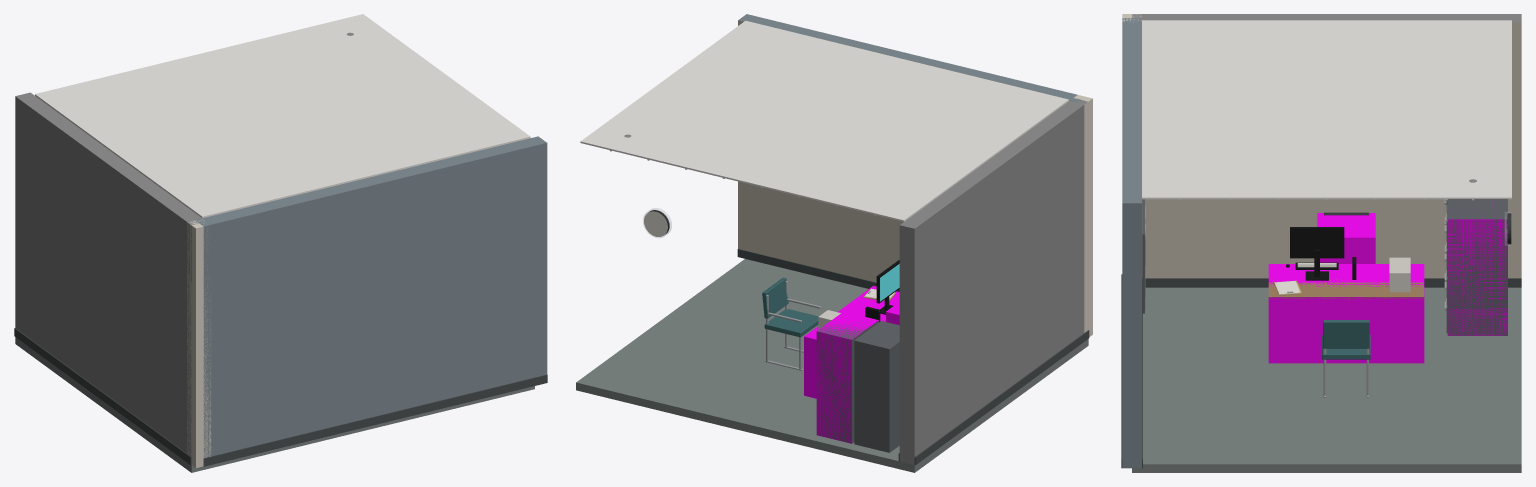
File: ENV_CredentialingOffice.glb
The picture shows the model from 3 angles, left to right: view 1: azimuth 30°, elevation 25°; view 2: azimuth 150°, elevation 25°; view 3: azimuth 270°, elevation 25°; orthographic projection. The views are drawn at different scales.
Visible parts, largest first — view 1: ENV_CredentialingOffice_Architecture, ENV_CredentialingOffice_Ceiling, ENV_CredentialingOffice_Posts; view 2: ENV_CredentialingOffice_Architecture, ENV_CredentialingOffice_Ceiling, PROP_Cabinet_Filing_4Drawer_Mesh, PROP_Cabinet_Filing_4Drawer_COL-colonly.001, PROP_Cabinet_Filing_4Drawer_Mesh.001, PROP_Chair_Visitor_Mesh, ENV_CredentialingOffice_Posts, PROP_Desk_Clinical_COL-colonly.001, PROP_Clock_Wall_Caged_Mesh.002, PROP_Terminal_EHR_Mesh.001; view 3: ENV_CredentialingOffice_Architecture, ENV_CredentialingOffice_Ceiling, PROP_Desk_Clinical_COL-colonly.001, PROP_Cabinet_Filing_4Drawer_Mesh.001, PROP_Cabinet_Filing_4Drawer_COL-colonly.001, PROP_Terminal_EHR_Mesh.001, PROP_Chair_Visitor_Mesh, PROP_Desk_Clinical_Mesh.001, PROP_Chair_Office_COL-colonly.001, PROP_Printer_Badge_Mesh, PROP_NoticeBoard_Mesh.
Part boxes in pixels (x1,y1,x2,y2): ENV_CredentialingOffice_Architecture: [14, 92, 547, 472]; ENV_CredentialingOffice_Ceiling: [35, 14, 530, 218]; ENV_CredentialingOffice_Posts: [187, 219, 211, 467]; ENV_CredentialingOffice_Architecture: [576, 14, 1089, 472]; ENV_CredentialingOffice_Ceiling: [580, 20, 1068, 221]; PROP_Cabinet_Filing_4Drawer_Mesh: [854, 321, 899, 452]; PROP_Cabinet_Filing_4Drawer_COL-colonly.001: [816, 311, 878, 443]; PROP_Cabinet_Filing_4Drawer_Mesh.001: [816, 321, 878, 443]; PROP_Chair_Visitor_Mesh: [762, 277, 820, 370]; ENV_CredentialingOffice_Posts: [1074, 95, 1092, 336]; PROP_Desk_Clinical_COL-colonly.001: [804, 285, 899, 398]; PROP_Clock_Wall_Caged_Mesh.002: [643, 208, 671, 237]; PROP_Terminal_EHR_Mesh.001: [865, 260, 899, 321]; ENV_CredentialingOffice_Architecture: [1121, 14, 1521, 472]; ENV_CredentialingOffice_Ceiling: [1142, 20, 1511, 200]; PROP_Desk_Clinical_COL-colonly.001: [1268, 264, 1424, 363]; PROP_Cabinet_Filing_4Drawer_Mesh.001: [1444, 200, 1507, 335]; PROP_Cabinet_Filing_4Drawer_COL-colonly.001: [1447, 200, 1507, 335]; PROP_Terminal_EHR_Mesh.001: [1286, 227, 1356, 280]; PROP_Chair_Visitor_Mesh: [1322, 320, 1370, 397]; PROP_Desk_Clinical_Mesh.001: [1268, 279, 1423, 299]; PROP_Chair_Office_COL-colonly.001: [1317, 213, 1375, 263]; PROP_Printer_Badge_Mesh: [1389, 257, 1410, 292]; PROP_NoticeBoard_Mesh: [1142, 199, 1145, 313].
Size of what is drawn, in the model's own units: 4.61 by 3.13 by 4.11.
